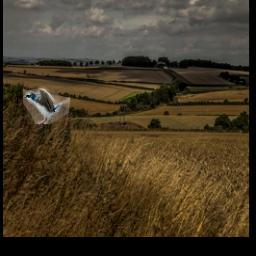Swallow: (24, 87, 71, 124)
